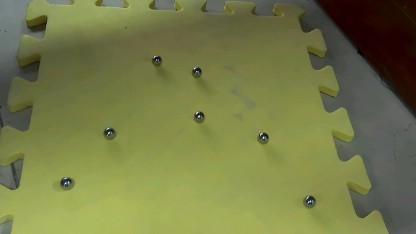ironball: (252, 129, 271, 147), (99, 125, 119, 141), (190, 106, 205, 123), (56, 174, 73, 189), (302, 190, 314, 211), (147, 48, 161, 66), (186, 61, 200, 77)
